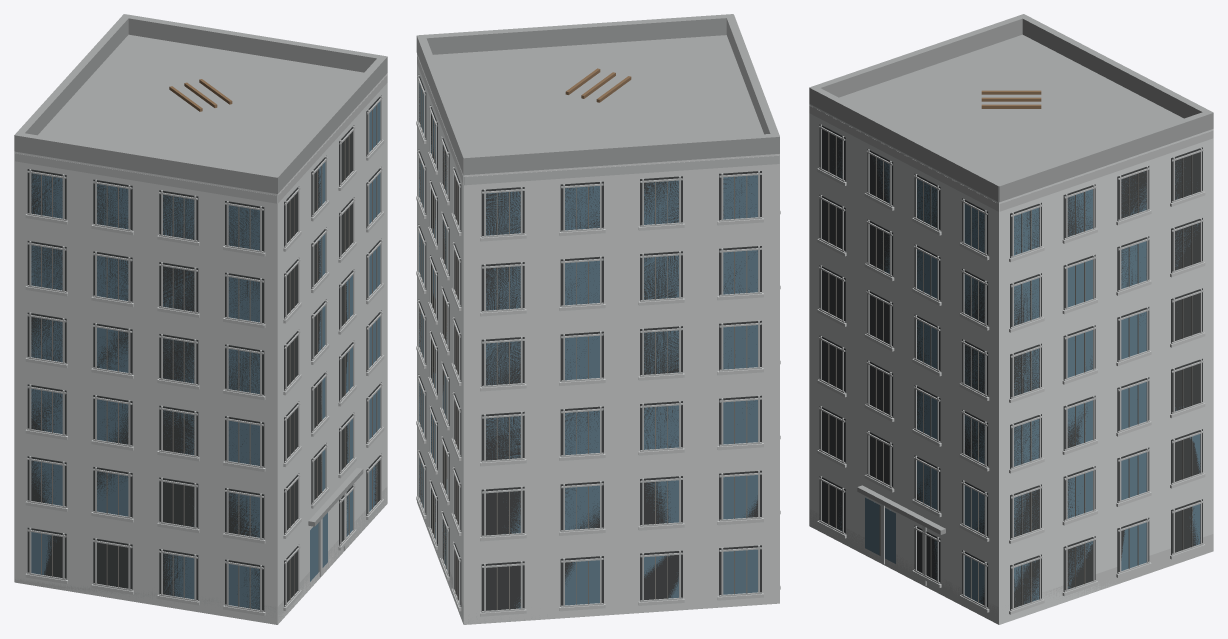
File: cop_escritorio_clinica_05__way_488128335.fbx
3 renders of one model, left to right at view 1: azimuth 30°, elevation 25°; view 2: azimuth 150°, elevation 25°; view 3: azimuth 270°, elevation 25°, orthographic. The views are drawn at different scales.
Visible parts, largest first — view 1: cop_escritorio_clinica_05__way_488128335_wall, cop_escritorio_clinica_05__way_488128335_roof, cop_escritorio_clinica_05__way_488128335_shadow, cop_escritorio_clinica_05__way_488128335_glass, cop_escritorio_clinica_05__way_488128335_trim, cop_escritorio_clinica_05__way_488128335_stone, cop_escritorio_clinica_05__way_488128335_metal, cop_escritorio_clinica_05__way_488128335_wood; view 2: cop_escritorio_clinica_05__way_488128335_wall, cop_escritorio_clinica_05__way_488128335_roof, cop_escritorio_clinica_05__way_488128335_glass, cop_escritorio_clinica_05__way_488128335_shadow, cop_escritorio_clinica_05__way_488128335_trim, cop_escritorio_clinica_05__way_488128335_stone, cop_escritorio_clinica_05__way_488128335_metal, cop_escritorio_clinica_05__way_488128335_wood; view 3: cop_escritorio_clinica_05__way_488128335_wall, cop_escritorio_clinica_05__way_488128335_roof, cop_escritorio_clinica_05__way_488128335_shadow, cop_escritorio_clinica_05__way_488128335_glass, cop_escritorio_clinica_05__way_488128335_trim, cop_escritorio_clinica_05__way_488128335_stone, cop_escritorio_clinica_05__way_488128335_metal, cop_escritorio_clinica_05__way_488128335_wood.
Boxes of the visible parts, x1,y1,x2,y2 form: cop_escritorio_clinica_05__way_488128335_wall: [14, 73, 387, 624]; cop_escritorio_clinica_05__way_488128335_roof: [14, 14, 387, 526]; cop_escritorio_clinica_05__way_488128335_shadow: [27, 95, 381, 611]; cop_escritorio_clinica_05__way_488128335_glass: [31, 101, 380, 609]; cop_escritorio_clinica_05__way_488128335_trim: [15, 75, 387, 612]; cop_escritorio_clinica_05__way_488128335_stone: [15, 140, 387, 624]; cop_escritorio_clinica_05__way_488128335_metal: [41, 105, 377, 608]; cop_escritorio_clinica_05__way_488128335_wood: [169, 79, 232, 111]; cop_escritorio_clinica_05__way_488128335_wall: [417, 53, 779, 624]; cop_escritorio_clinica_05__way_488128335_roof: [416, 14, 779, 175]; cop_escritorio_clinica_05__way_488128335_glass: [419, 84, 757, 608]; cop_escritorio_clinica_05__way_488128335_shadow: [418, 74, 761, 612]; cop_escritorio_clinica_05__way_488128335_trim: [417, 55, 779, 612]; cop_escritorio_clinica_05__way_488128335_stone: [416, 121, 780, 624]; cop_escritorio_clinica_05__way_488128335_metal: [420, 86, 747, 610]; cop_escritorio_clinica_05__way_488128335_wood: [565, 68, 631, 102]; cop_escritorio_clinica_05__way_488128335_wall: [809, 104, 1213, 624]; cop_escritorio_clinica_05__way_488128335_roof: [809, 14, 1213, 534]; cop_escritorio_clinica_05__way_488128335_shadow: [819, 124, 1202, 610]; cop_escritorio_clinica_05__way_488128335_glass: [836, 139, 1200, 606]; cop_escritorio_clinica_05__way_488128335_trim: [809, 105, 1213, 610]; cop_escritorio_clinica_05__way_488128335_stone: [809, 168, 1213, 624]; cop_escritorio_clinica_05__way_488128335_metal: [828, 132, 1192, 605]; cop_escritorio_clinica_05__way_488128335_wood: [981, 90, 1041, 108].
Bounding box in the file's own units: 1576 × 1877 × 1562.
